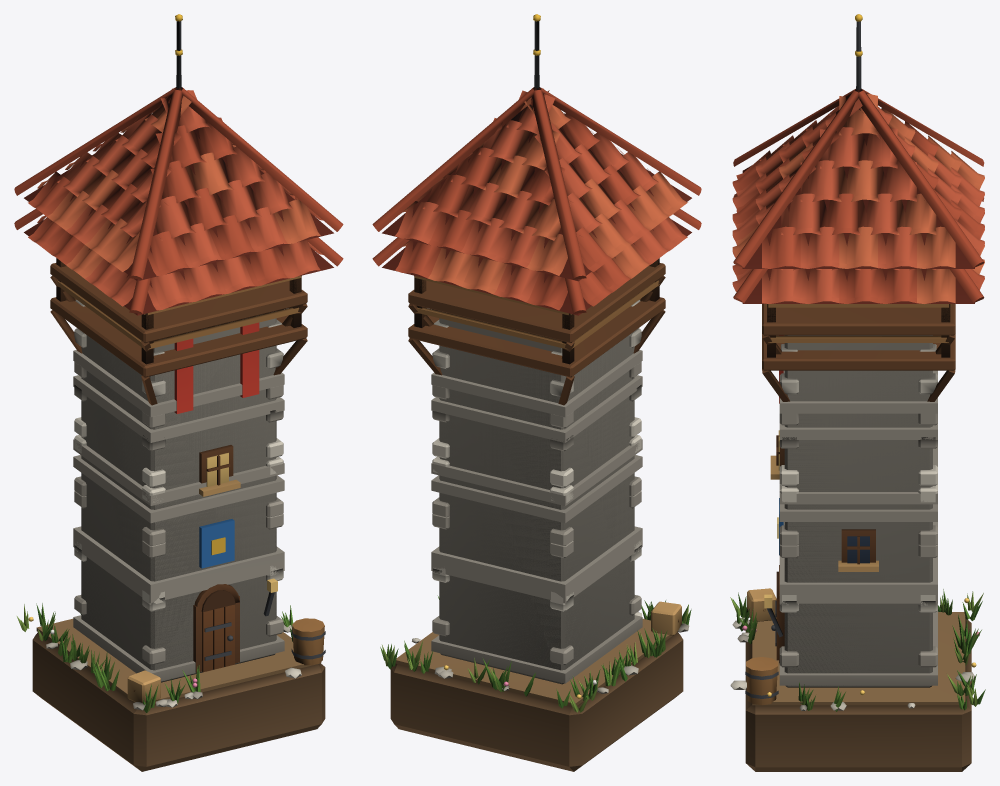
File: tower.glb
The picture shows the model from 3 angles, left to right: view 1: azimuth 30°, elevation 25°; view 2: azimuth 150°, elevation 25°; view 3: azimuth 270°, elevation 25°; orthographic projection. The views are drawn at different scales.
Parts seen in each view (by area): view 1: tower_l1, tower_l3, tower_l2; view 2: tower_l1, tower_l3, tower_l2; view 3: tower_l1, tower_l3, tower_l2.
Part boxes in pixels (left/top/right/bottom): tower_l1: left=14, top=49, right=343, bottom=771; tower_l3: left=14, top=14, right=343, bottom=710; tower_l2: left=28, top=519, right=292, bottom=712; tower_l1: left=372, top=49, right=701, bottom=771; tower_l3: left=372, top=14, right=701, bottom=708; tower_l2: left=380, top=604, right=691, bottom=700; tower_l1: left=730, top=50, right=984, bottom=771; tower_l3: left=732, top=14, right=984, bottom=710; tower_l2: left=730, top=498, right=985, bottom=710.
Size of the model in its own units: 0.786 by 2.44 by 0.7927.
